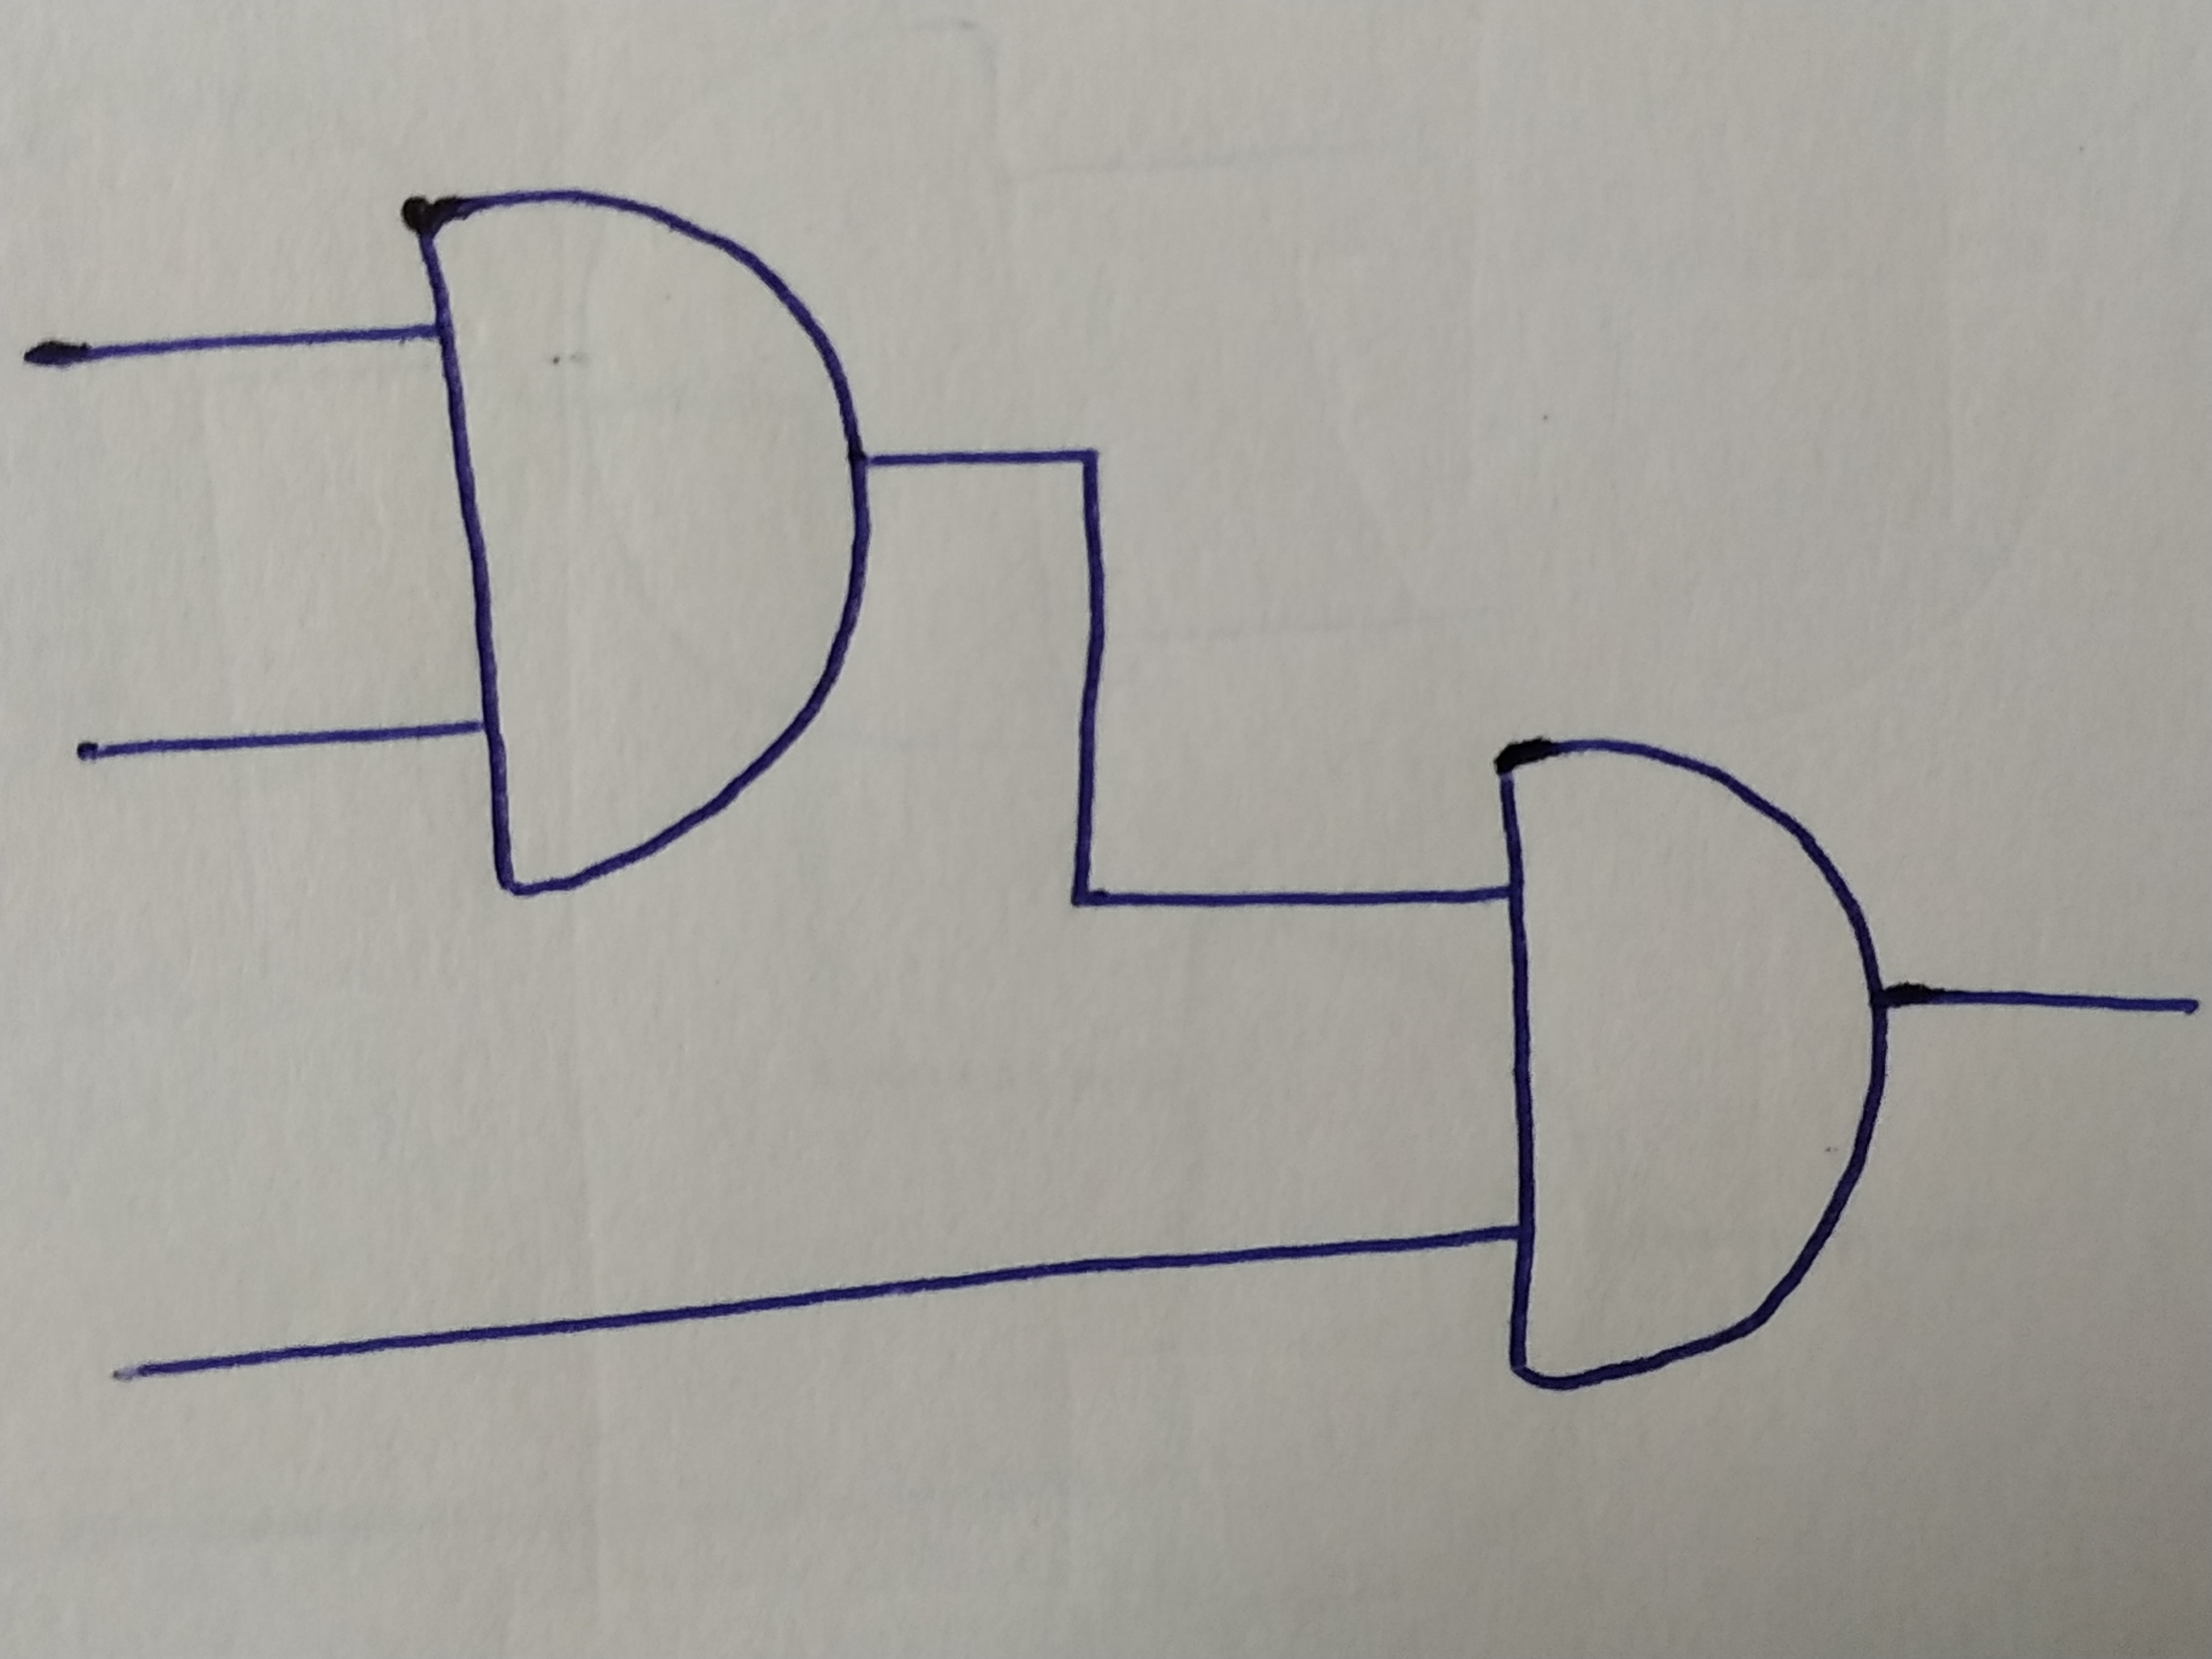and: (411, 190, 873, 894), (1491, 734, 1892, 1392)
